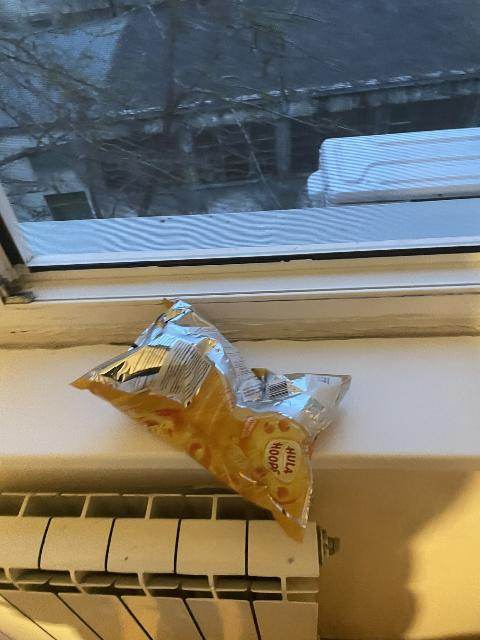Chio Hula Hoops Cheese 70g: (72, 307, 345, 538)
